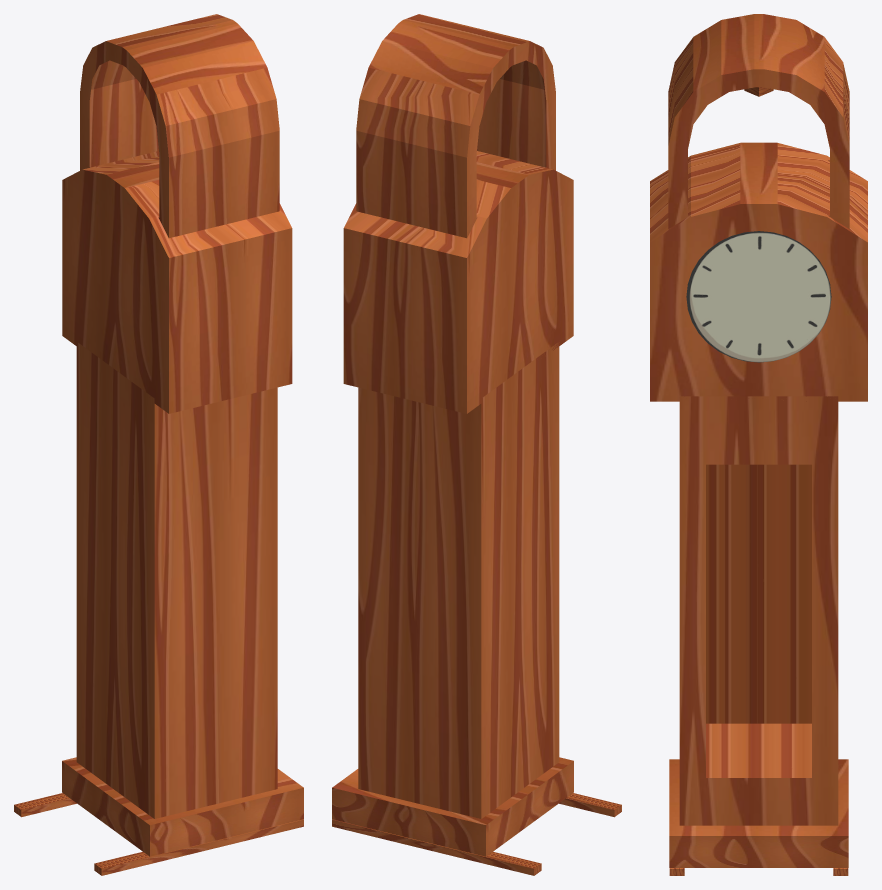
Rendered from Relojp.obj.
The picture shows the model from 3 angles, left to right: view 1: azimuth 30°, elevation 25°; view 2: azimuth 150°, elevation 25°; view 3: azimuth 270°, elevation 25°; orthographic projection. The views are drawn at different scales.
Visible parts, largest first — view 1: Cylinder; view 2: Cylinder; view 3: Cylinder.
Boxes of the visible parts, x1=… form: Cylinder: x1=14, y1=14, x2=303, y2=875; Cylinder: x1=332, y1=14, x2=621, y2=875; Cylinder: x1=650, y1=14, x2=867, y2=875.
Bounding box in the file's own units: 0.8199 × 3.02 × 0.75.
2 materials, 2 textured.
